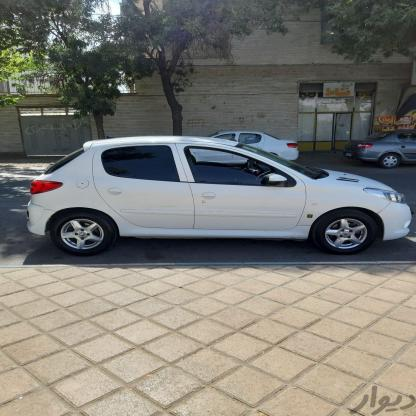Car: (19, 132, 416, 256), (185, 126, 306, 165), (346, 125, 416, 169)
